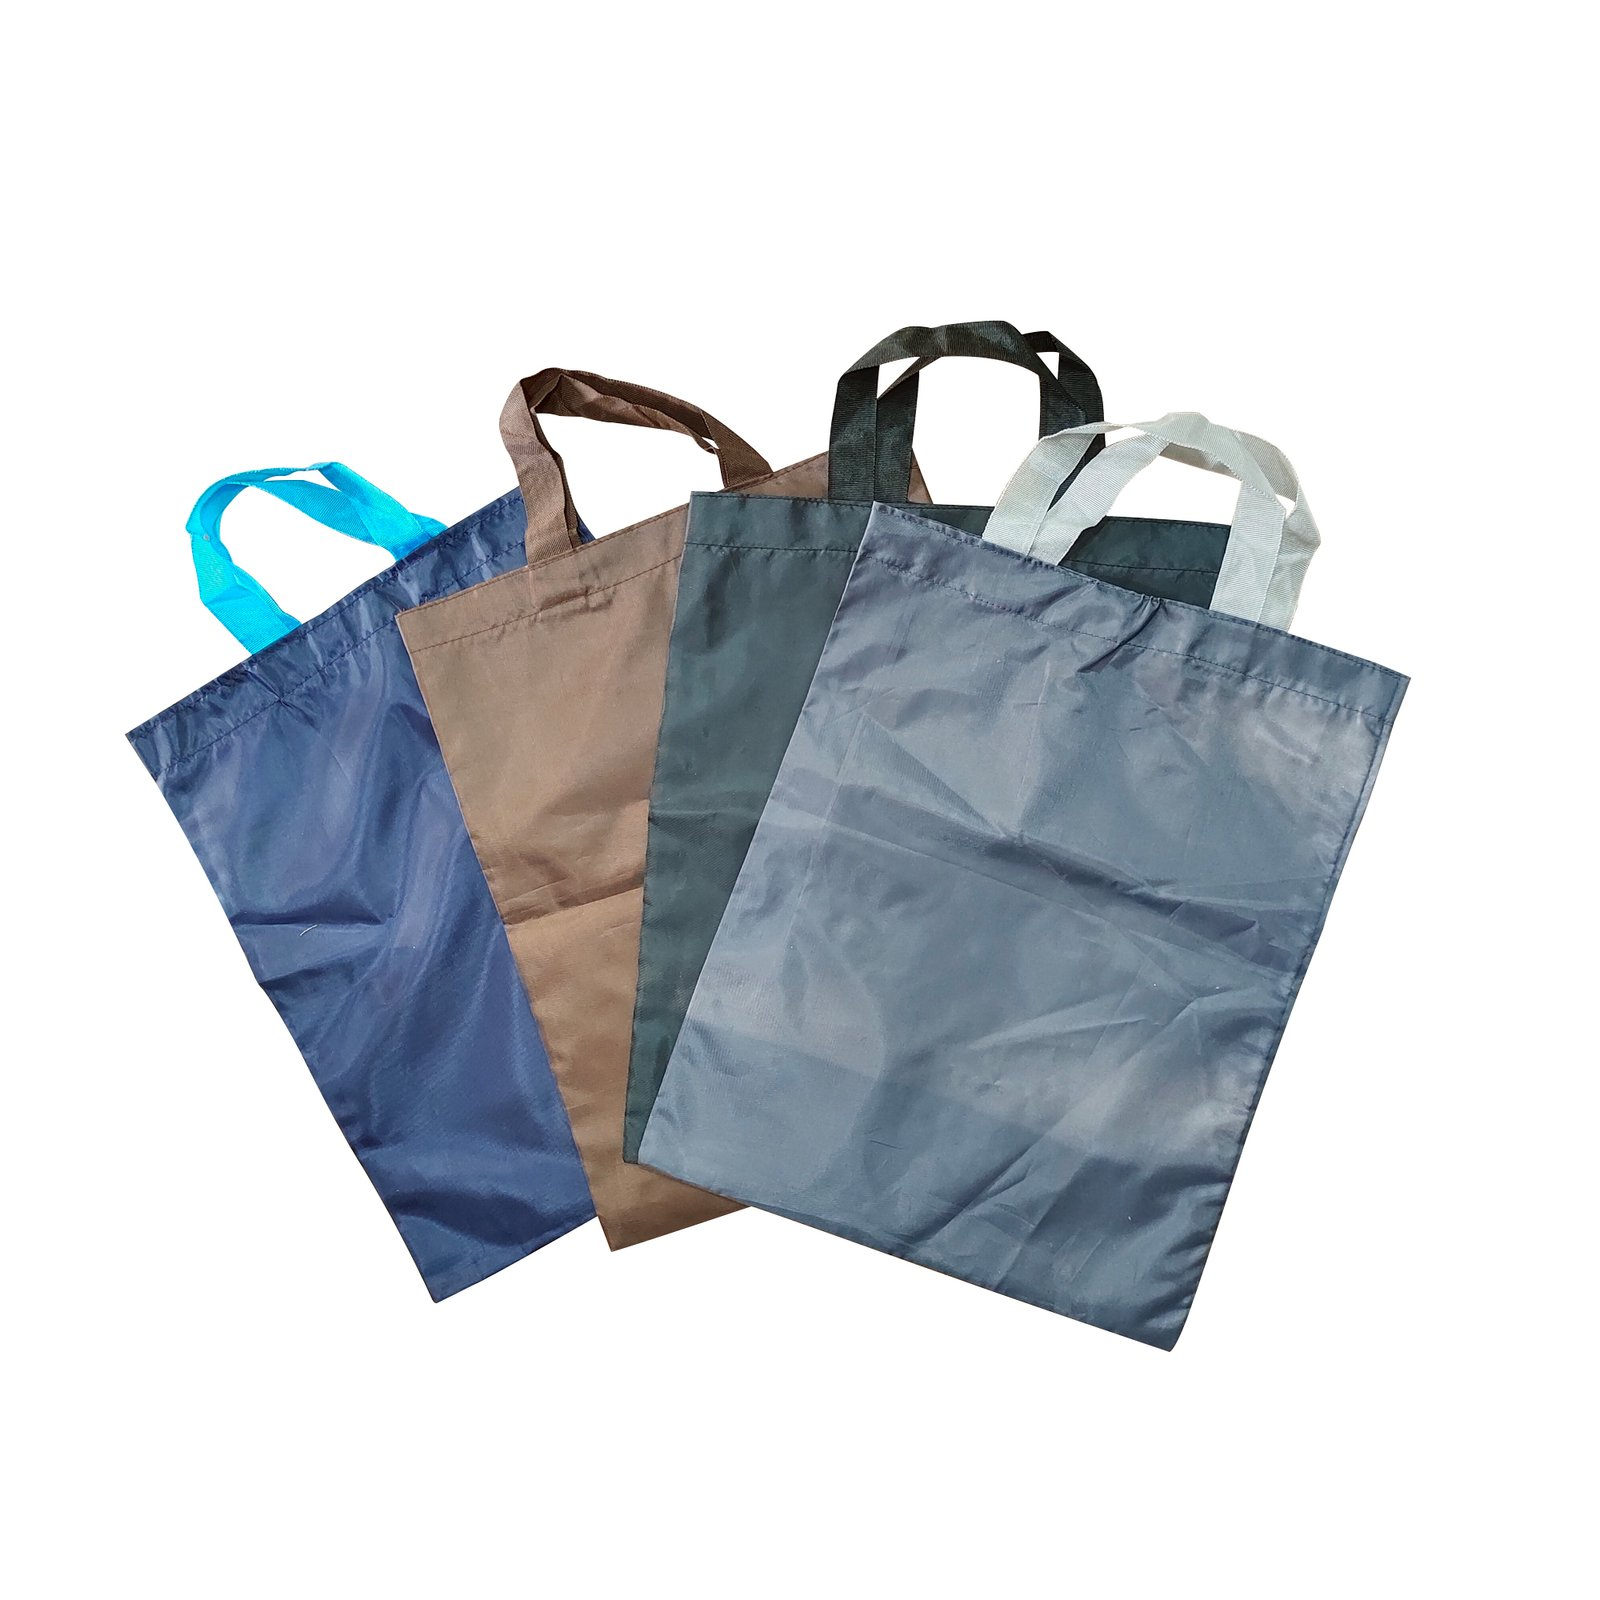carrybag: (221, 365, 1582, 1325)
